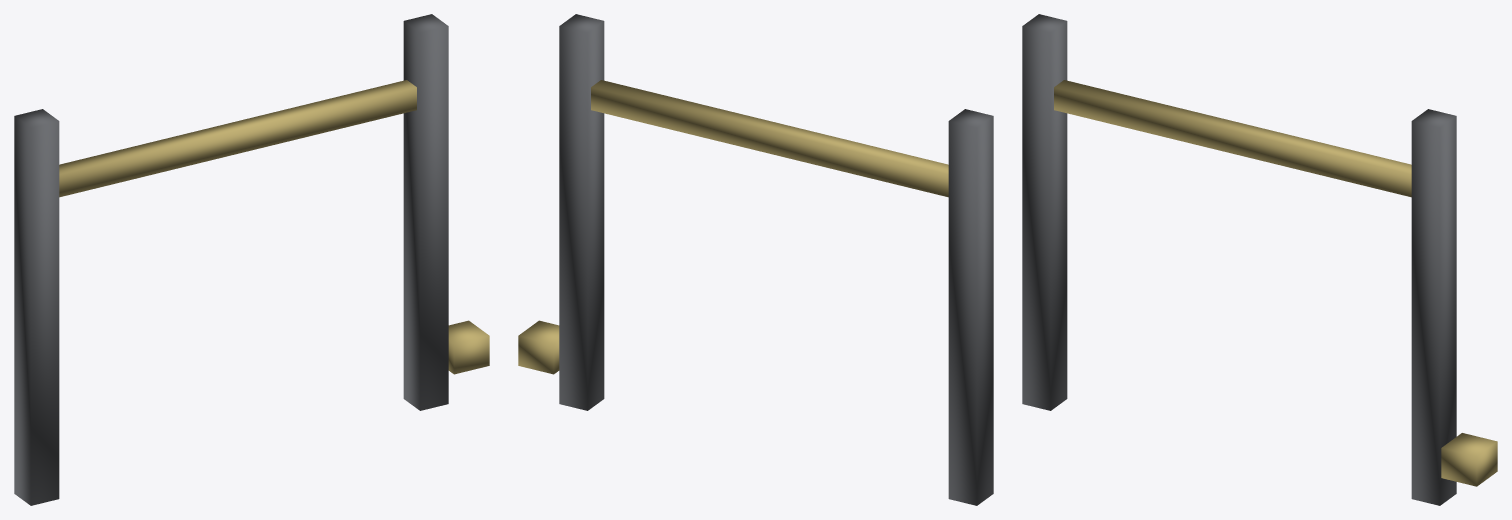
The model's file is queue_gate_14.glb.
3 renders of one model, left to right at view 1: azimuth 30°, elevation 25°; view 2: azimuth 150°, elevation 25°; view 3: azimuth 330°, elevation 25°, orthographic.
Visible parts, largest first — view 1: world; view 2: world; view 3: world.
Part boxes in pixels (x1,y1,x2,y2): world: [14, 14, 489, 505]; world: [518, 14, 993, 505]; world: [1022, 14, 1497, 505].
Bounding box in the file's own units: 1.24 × 0.98 × 0.097.
